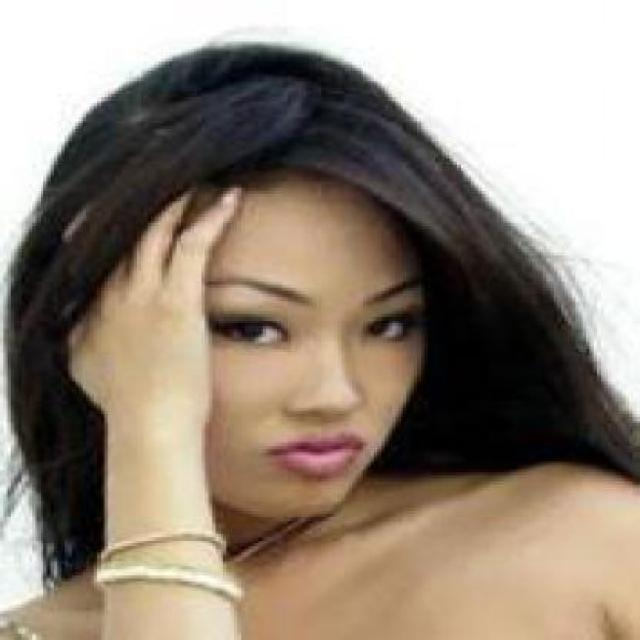closed-mouth: (263, 428, 371, 480)
